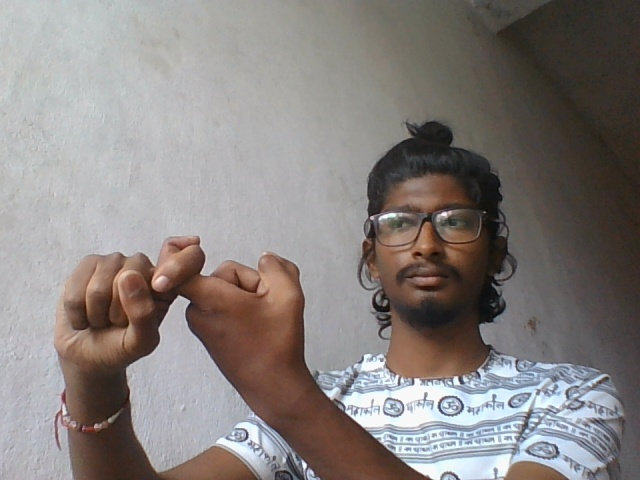ILoveYou: (44, 230, 333, 389)
